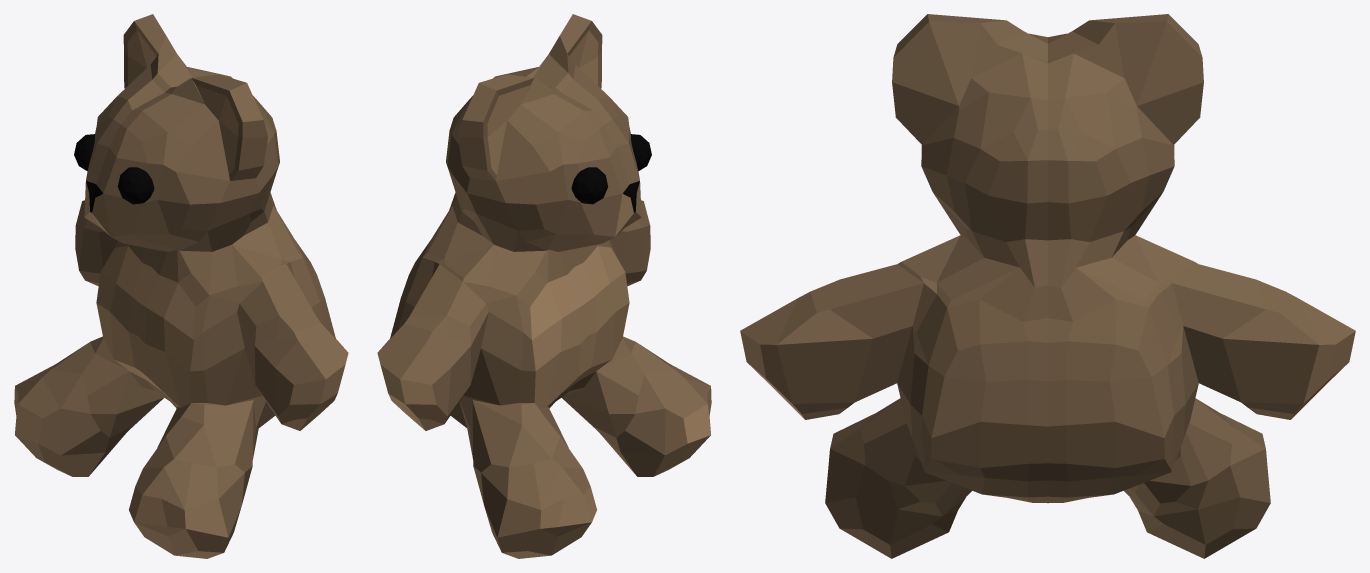
Rendered from Teddy Bear.glb.
The picture shows the model from 3 angles, left to right: view 1: azimuth 30°, elevation 25°; view 2: azimuth 150°, elevation 25°; view 3: azimuth 270°, elevation 25°; orthographic projection. The views are drawn at different scales.
Parts seen in each view (by area): view 1: Teddy Bear; view 2: Teddy Bear; view 3: Teddy Bear.
Boxes of the visible parts, <box> form: Teddy Bear: <box>14,14,348,558</box>; Teddy Bear: <box>377,14,711,558</box>; Teddy Bear: <box>740,14,1355,558</box>.
Bounding box in the file's own units: 0.7468 × 1.44 × 1.41.
